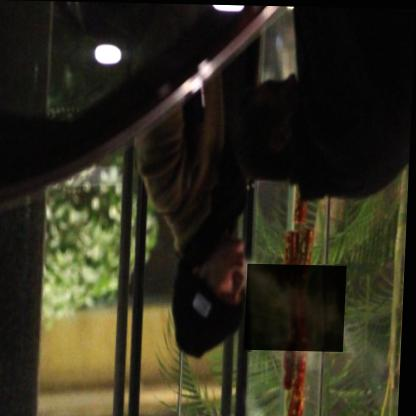smoke: (247, 262, 349, 350)
